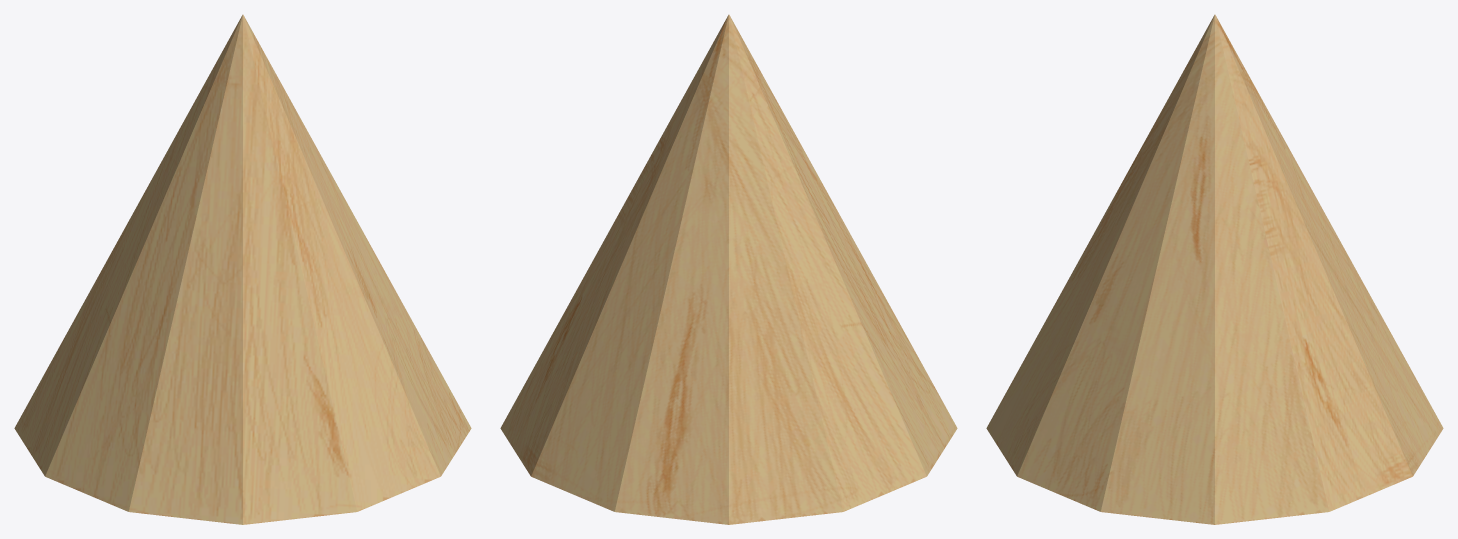
Rendered from ConeBlock_Wood.fbx.
3 views of the same model, side by side, from view 1: azimuth 30°, elevation 25°; view 2: azimuth 150°, elevation 25°; view 3: azimuth 270°, elevation 25° (orthographic).
Parts seen in each view (by area): view 1: Cone.005; view 2: Cone.005; view 3: Cone.005.
Boxes of the visible parts, x1=… form: Cone.005: x1=14, y1=14, x2=471, y2=524; Cone.005: x1=500, y1=14, x2=957, y2=524; Cone.005: x1=986, y1=14, x2=1443, y2=524.
Size of the model in its own units: 100 by 100 by 100.
